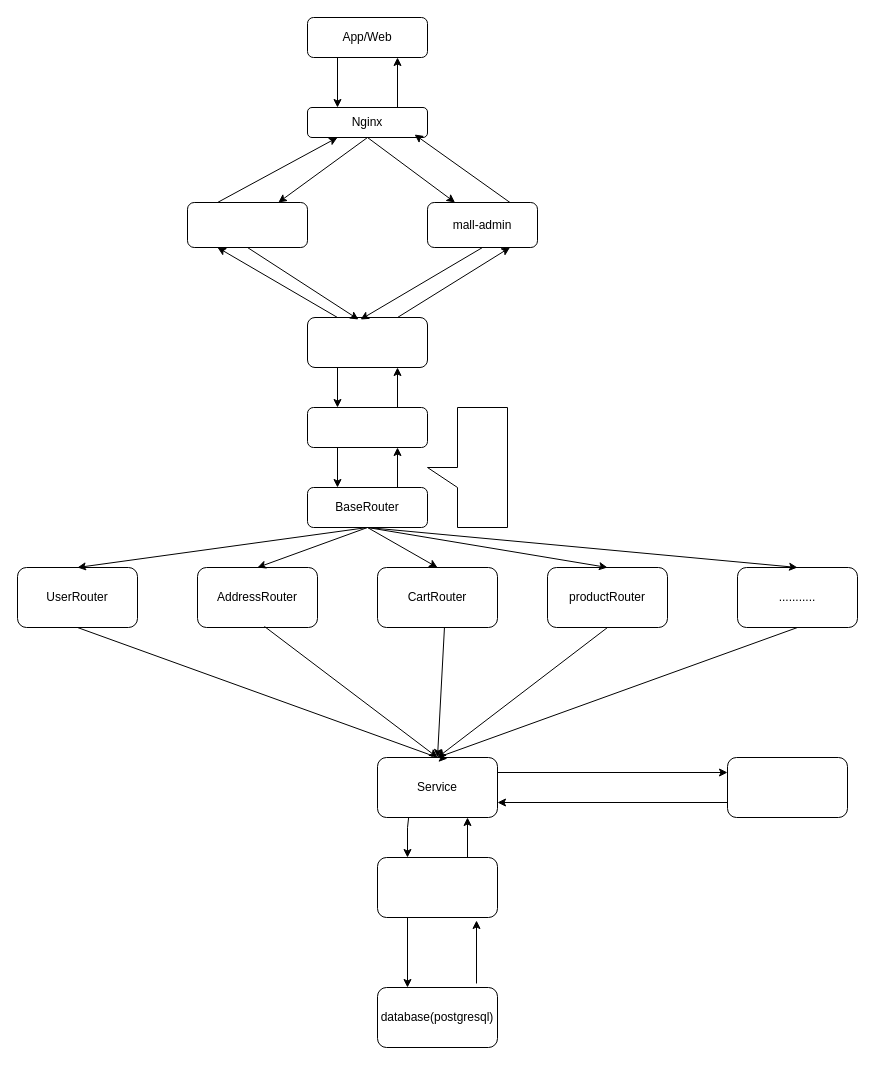
Image size: 875x1065. Some labels were removed from this diagram. The centre of each missing label's shape, as x and y in pixels:
"ApiVerticle" goes at [367,342].
"EventBus" goes at [367,427].
"JSON" goes at [467,467].
"mall-web" goes at [247,225].
"RabbitMQ" goes at [787,787].
"Redis" goes at [437,887].
